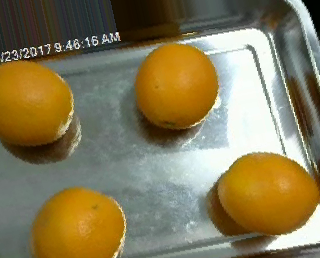Orange: (216, 151, 320, 236), (133, 41, 218, 128), (30, 185, 128, 258), (1, 59, 74, 146)
